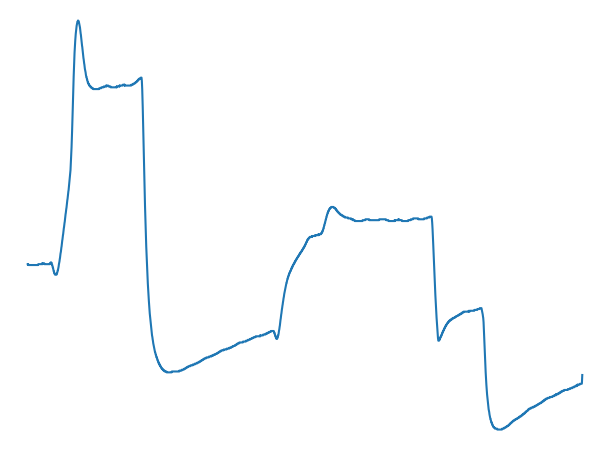decrease: (132, 73, 147, 95), (424, 209, 437, 229), (473, 303, 487, 321)
increase: (50, 248, 64, 280), (270, 315, 284, 345), (432, 324, 451, 345)
